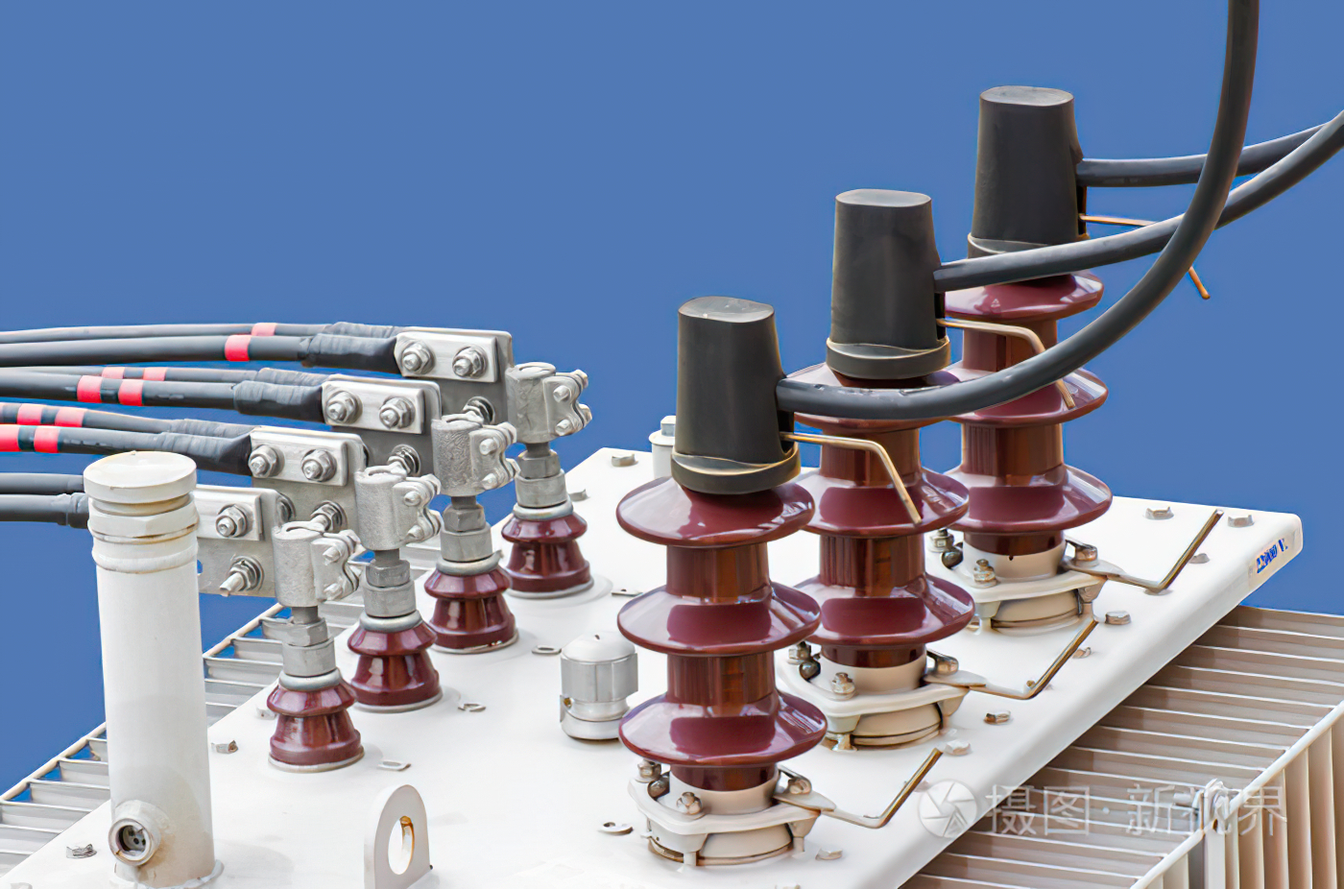insulator: (621, 467, 819, 781), (781, 359, 981, 653), (938, 250, 1117, 551)
